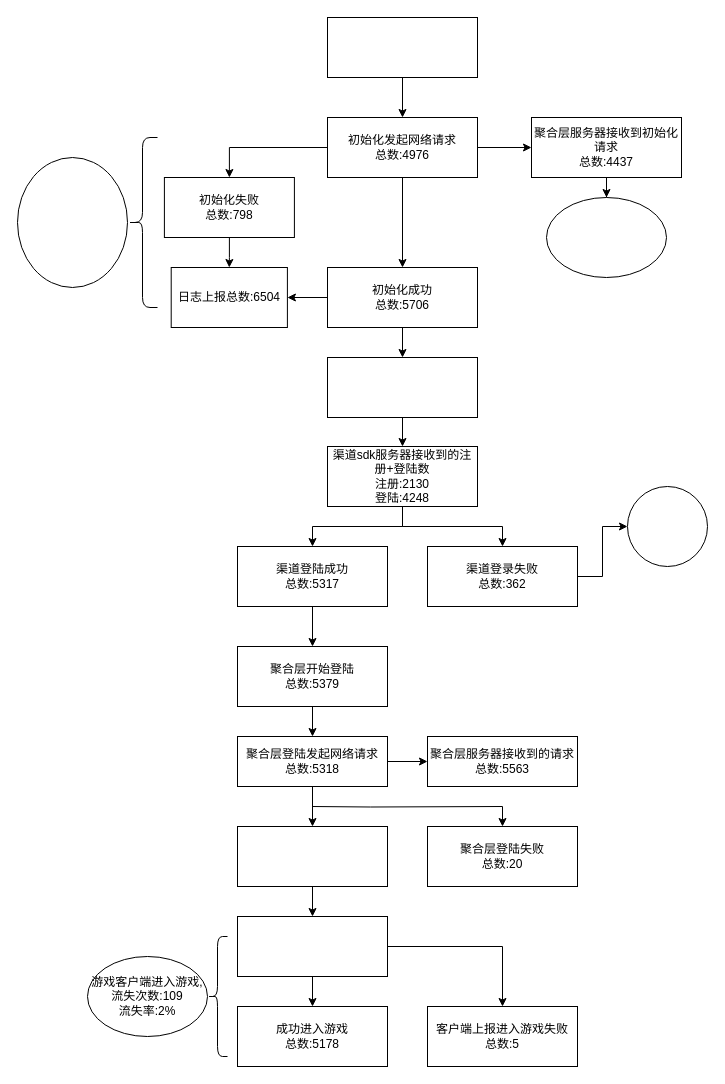
Image size: 725x1084. Some labels were removed from this diagram. The shapes that lost their labels are listed below. From the top down, each one's centre as x and y in pixels, then its label:
At point 402,47: "开始初始化 总数:4972".
At point 72,222: "客户端打点上报:损失51个数据,可能是网络问题上报失败,或者是玩家杀死进程无法上报".
At point 606,237: "请求不可达数量:539,流失率:10%".
At point 402,387: "渠道sdk初始化,服务器接收到的请求 总数:5673".
At point 667,526: "渠道登录失败,流失率达：6%".
At point 312,856: "聚合层登陆成功 总数:5290".
At point 312,946: "客户端向游戏发起登陆请求 总数:5292".
